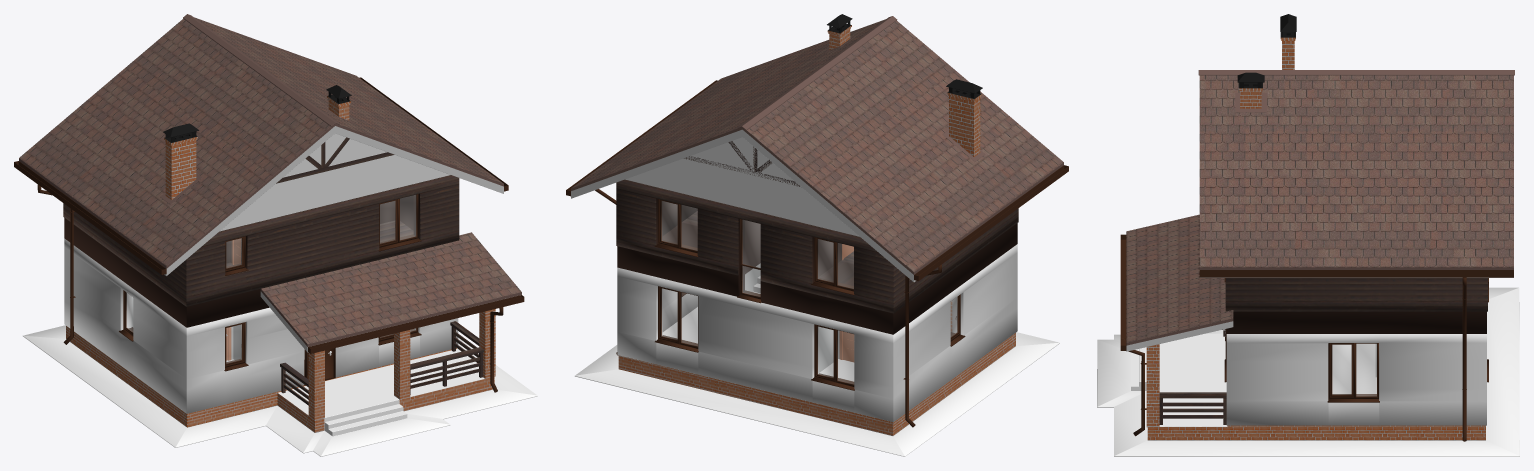
The model's file is house5.glb.
3 renders of one model, left to right at view 1: azimuth 30°, elevation 25°; view 2: azimuth 150°, elevation 25°; view 3: azimuth 270°, elevation 25°, orthographic. The views are drawn at different scales.
Parts seen in each view (by area): view 1: Krov, house 1, 2et, 1et, Cher, okn_dver, Sliv, peril, Vent; view 2: Krov, 1et, 2et, house 1, okn_dver, Cher, Vent, Sliv; view 3: Krov, house 1, 1et, 2et, Sliv, okn_dver, Vent, peril.
Boxes of the visible parts, x1,y1,x2,y2 form: Krov: (19,14,521,352); house 1: (23,309,537,456); 2et: (63,175,459,327); 1et: (64,238,458,413); Cher: (219,133,450,231); okn_dver: (119,194,421,385); Sliv: (14,77,524,392); peril: (280,321,483,405); Vent: (163,85,351,199); Krov: (571,16,1063,282); 1et: (617,244,1017,422); 2et: (616,179,1018,334); house 1: (574,307,1059,456); okn_dver: (654,199,965,390); Cher: (625,137,859,236); Vent: (827,14,982,331); Sliv: (566,80,1068,427); Krov: (1126,70,1514,351); house 1: (1097,287,1519,456); 1et: (1226,334,1486,425); 2et: (1225,278,1487,333); Sliv: (1120,234,1513,441); okn_dver: (1223,278,1488,402); Vent: (1237,14,1296,108); peril: (1159,329,1226,424).
Bounding box in the file's own units: 12.64 × 10.28 × 12.52.
Materials: 12 (3 with a texture image).
